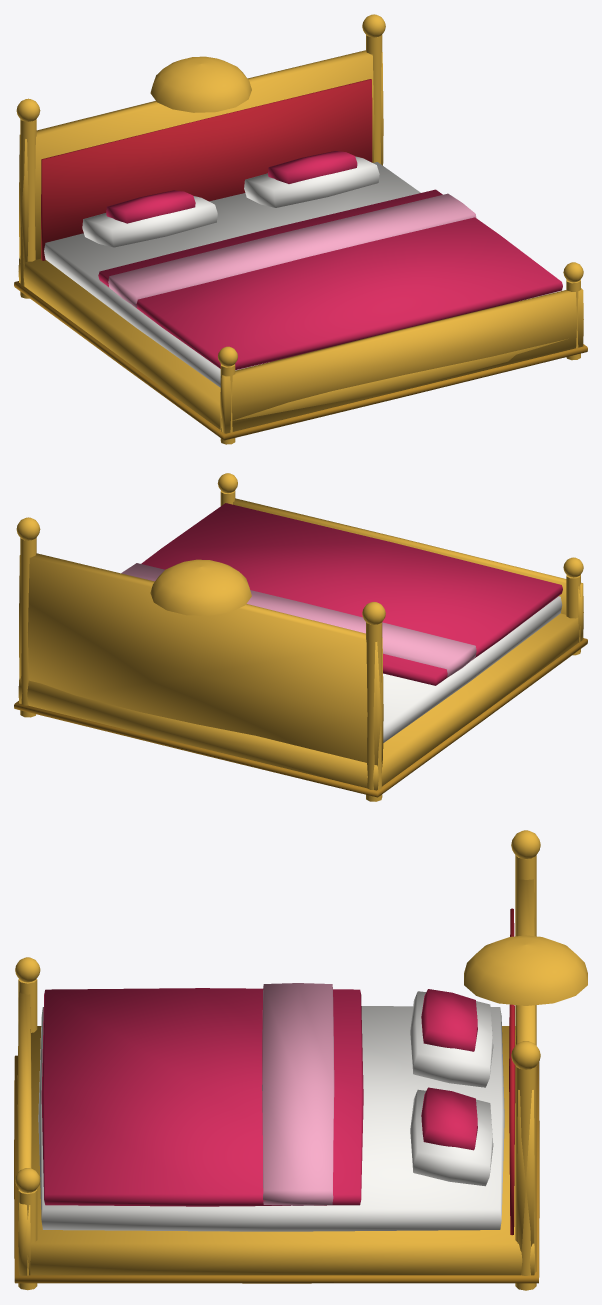
File: royal_bed.glb
The picture shows the model from 3 angles, top to bottom: view 1: azimuth 30°, elevation 25°; view 2: azimuth 150°, elevation 25°; view 3: azimuth 270°, elevation 25°; orthographic projection. The views are drawn at different scales.
Visible parts, largest first — view 1: root; view 2: root; view 3: root.
Part boxes in pixels (x1,y1,x2,y2): root: [14, 14, 587, 444]; root: [14, 473, 587, 801]; root: [14, 830, 587, 1290].
Bounding box in the file's own units: 4.28 × 2.18 × 4.65.
